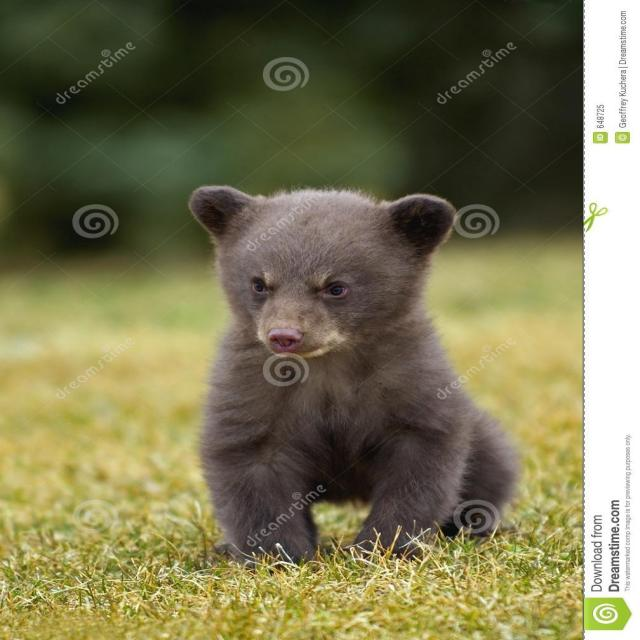Bear: (187, 186, 523, 571)
